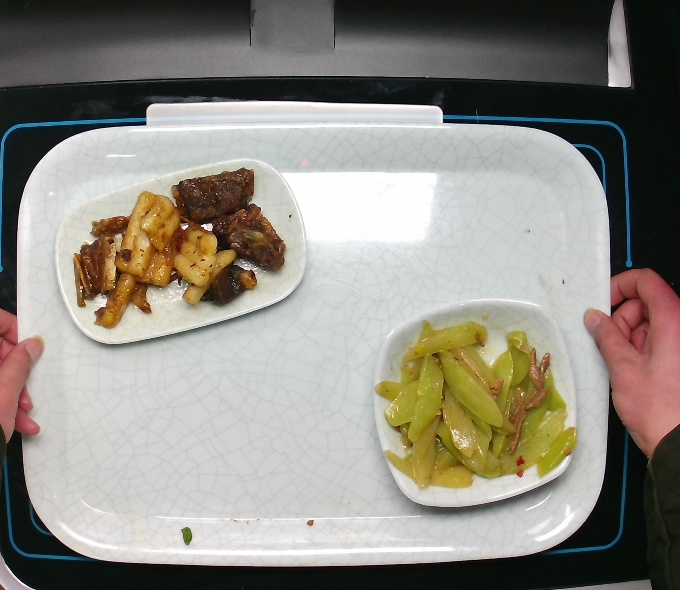wcq-NianGaoZaiPai: (59, 166, 293, 334)
wcq-WoSun: (375, 317, 587, 492)
